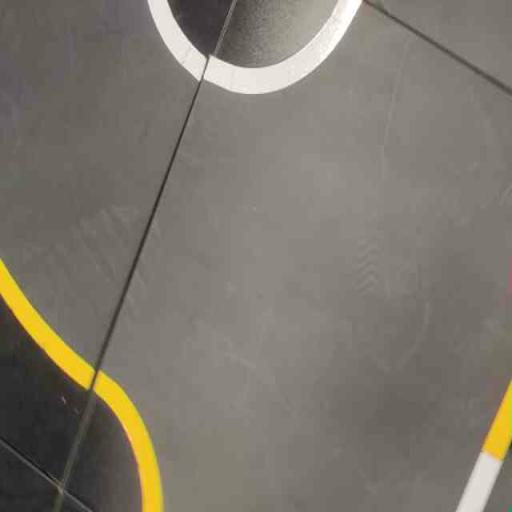right: (0, 0, 363, 389)
